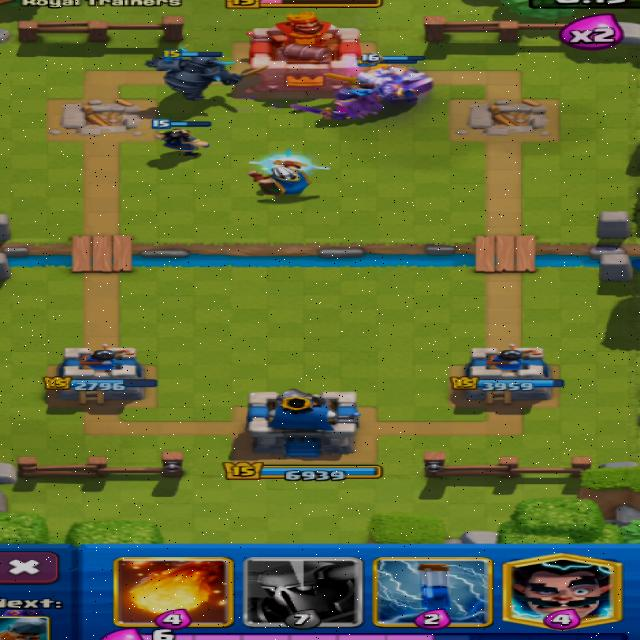Enemy-KingTower-Activated: (249, 10, 360, 96)
Player-ElectroWizard: (153, 120, 209, 155)
Player-KingTower-Activated: (246, 389, 358, 457)
Player-MagicArcher: (248, 149, 328, 194)
Player-PEKKA: (145, 45, 267, 100)
Player-PrincessTower: (450, 345, 562, 405), (45, 345, 155, 403)
Player-RoyalGhost-Evo: (357, 64, 432, 102)
Player-RoyalGhost-Minion: (293, 88, 382, 121)
